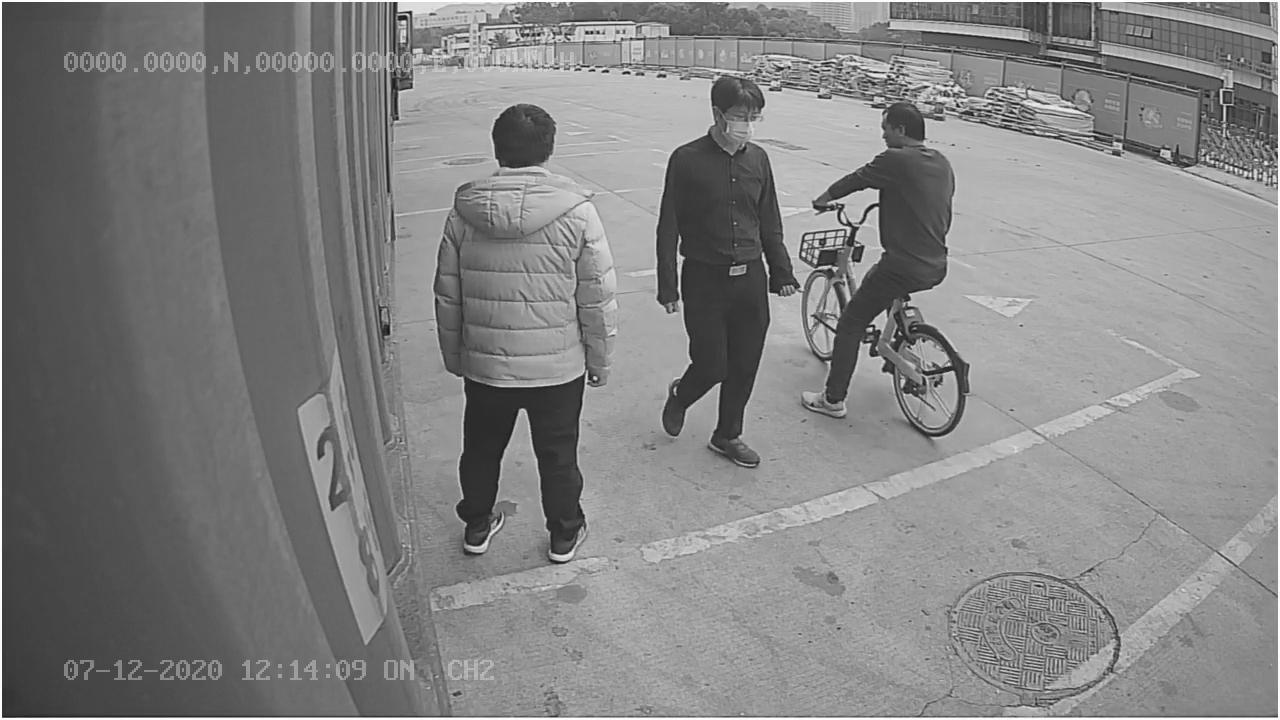person: (652, 60, 802, 471)
